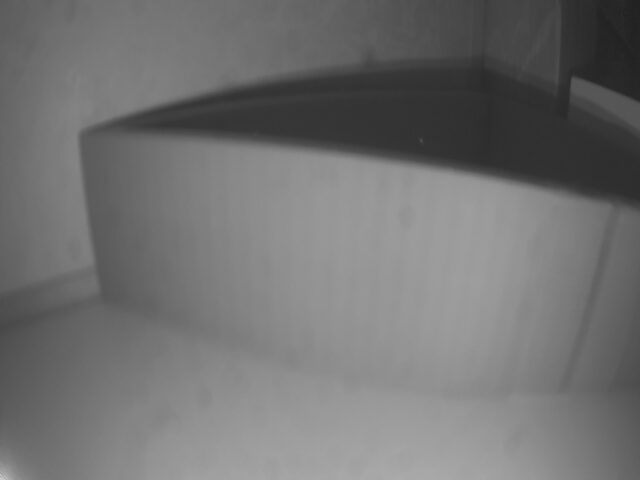Green: (70, 123, 640, 393)
